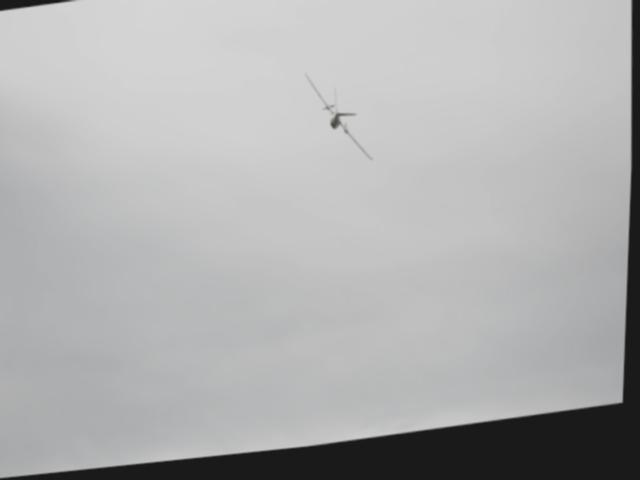plane: (302, 71, 379, 176)
